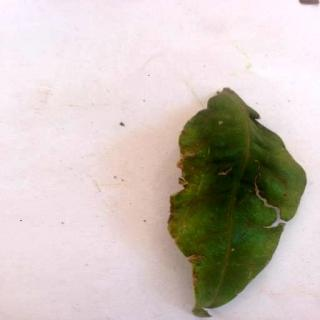Brown Blight: (170, 87, 306, 320)
